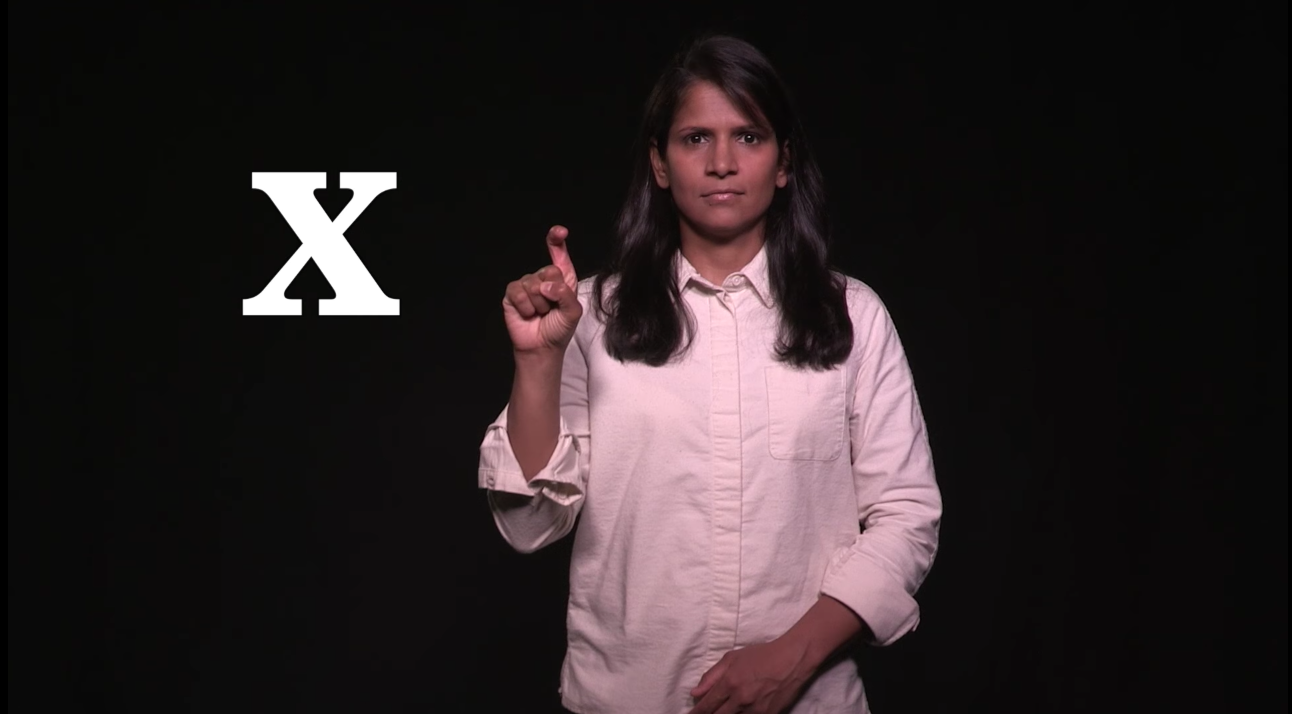x: (481, 213, 603, 373)
